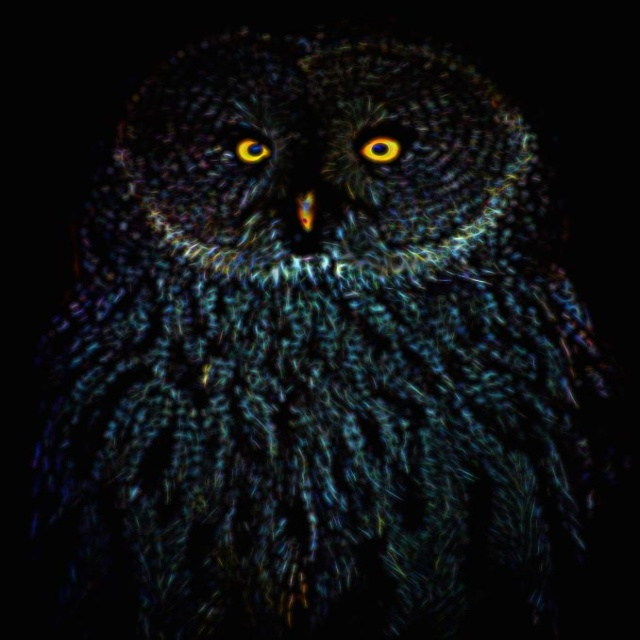Owl: (40, 26, 614, 640)
